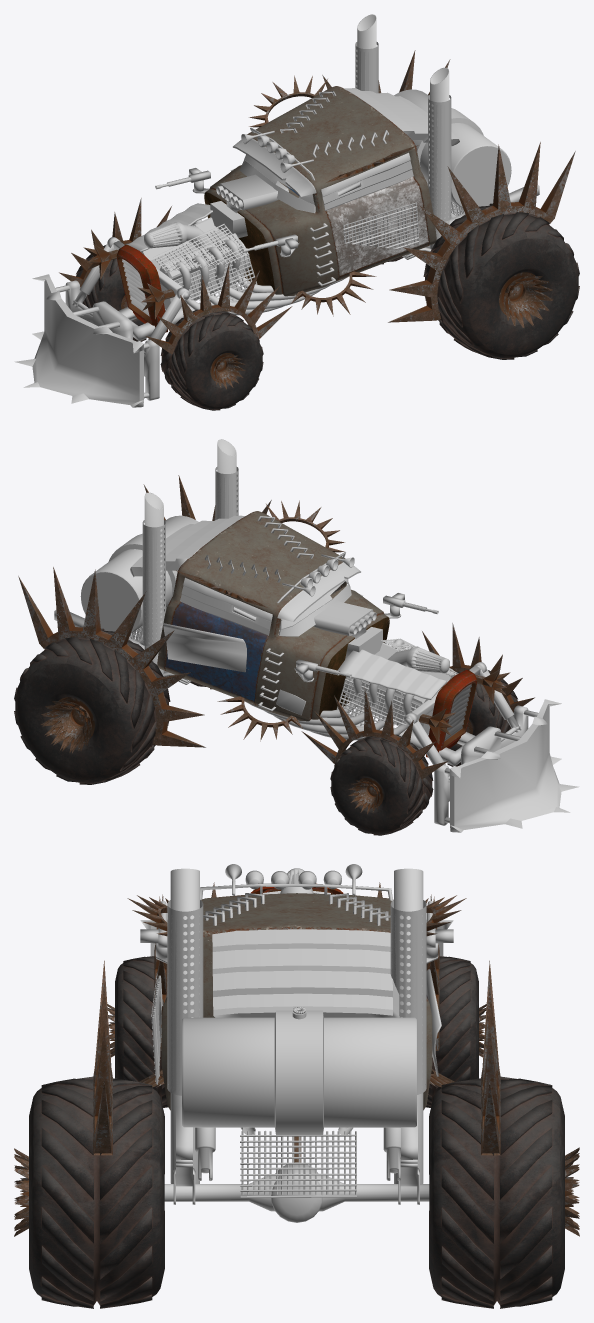
The model's file is ApocalypicMonsterCar.fbx.
The picture shows the model from 3 angles, top to bottom: view 1: azimuth 30°, elevation 25°; view 2: azimuth 150°, elevation 25°; view 3: azimuth 270°, elevation 25°; orthographic projection. The views are drawn at different scales.
Visible parts, largest first — view 1: Cube.013, Cube.001, Cube.016, Cylinder.000, Cube.043, Cylinder.030, Cylinder.004, Cube.020, Cube.000, Cylinder.003, Cube.026, Cylinder.005; view 2: Cube.013, Cube.001, Cube.016, Cylinder.000, Cube.043, Cylinder.030, Cylinder.004, Cube.000, Cylinder.007, Cube.020, Cube.026, Cylinder.005; view 3: Cylinder.000, Cube.001, Cube.016, Cylinder.030, Cylinder.004, Cube.043, Cube.013, Cube.026, Cylinder.007, Cylinder.003.
Boxes of the visible parts, x1=… form: Cube.013: x1=116, y1=86, x2=436, y2=332; Cube.001: x1=65, y1=88, x2=539, y2=400; Cube.016: x1=14, y1=89, x2=511, y2=407; Cylinder.000: x1=382, y1=203, x2=579, y2=359; Cube.043: x1=59, y1=50, x2=575, y2=354; Cylinder.030: x1=122, y1=14, x2=451, y2=316; Cylinder.004: x1=76, y1=245, x2=263, y2=410; Cube.020: x1=141, y1=217, x2=250, y2=309; Cube.000: x1=210, y1=174, x2=288, y2=237; Cylinder.003: x1=499, y1=272, x2=552, y2=327; Cube.026: x1=155, y1=168, x2=299, y2=257; Cylinder.005: x1=121, y1=295, x2=245, y2=389; Cube.013: x1=157, y1=511, x2=477, y2=757; Cube.001: x1=54, y1=515, x2=528, y2=825; Cube.016: x1=80, y1=515, x2=579, y2=832; Cylinder.000: x1=14, y1=628, x2=211, y2=784; Cube.043: x1=18, y1=475, x2=534, y2=779; Cylinder.030: x1=142, y1=439, x2=471, y2=741; Cylinder.004: x1=330, y1=670, x2=517, y2=835; Cube.000: x1=313, y1=601, x2=382, y2=659; Cylinder.007: x1=41, y1=697, x2=94, y2=753; Cube.020: x1=343, y1=642, x2=453, y2=734; Cube.026: x1=294, y1=593, x2=438, y2=682; Cylinder.005: x1=348, y1=720, x2=472, y2=814; Cylinder.000: x1=29, y1=1076, x2=564, y2=1308; Cube.001: x1=151, y1=883, x2=441, y2=1222; Cube.016: x1=140, y1=920, x2=453, y2=1135; Cylinder.030: x1=167, y1=864, x2=426, y2=1183; Cylinder.004: x1=115, y1=956, x2=478, y2=1107; Cube.043: x1=93, y1=882, x2=500, y2=1155; Cube.013: x1=161, y1=883, x2=432, y2=1110; Cube.026: x1=140, y1=900, x2=453, y2=963; Cylinder.007: x1=565, y1=1147, x2=579, y2=1236; Cylinder.003: x1=14, y1=1148, x2=28, y2=1236.
Size of the model in its own units: 530 by 815 by 429.
